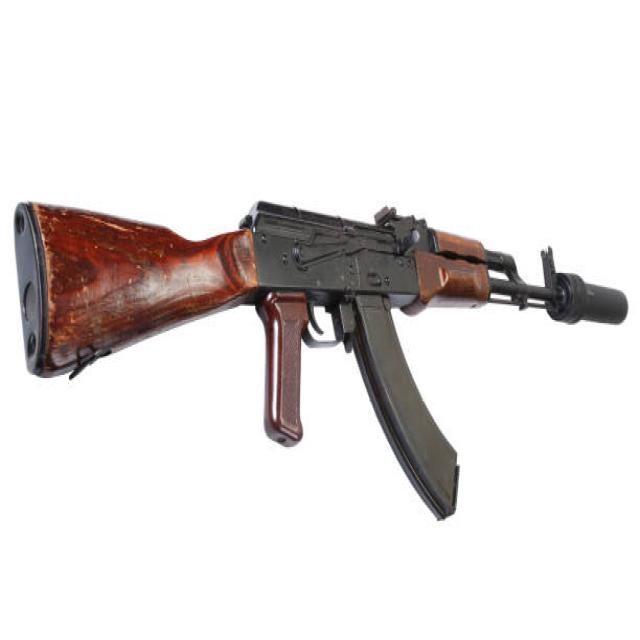rifle: (8, 177, 633, 537)
